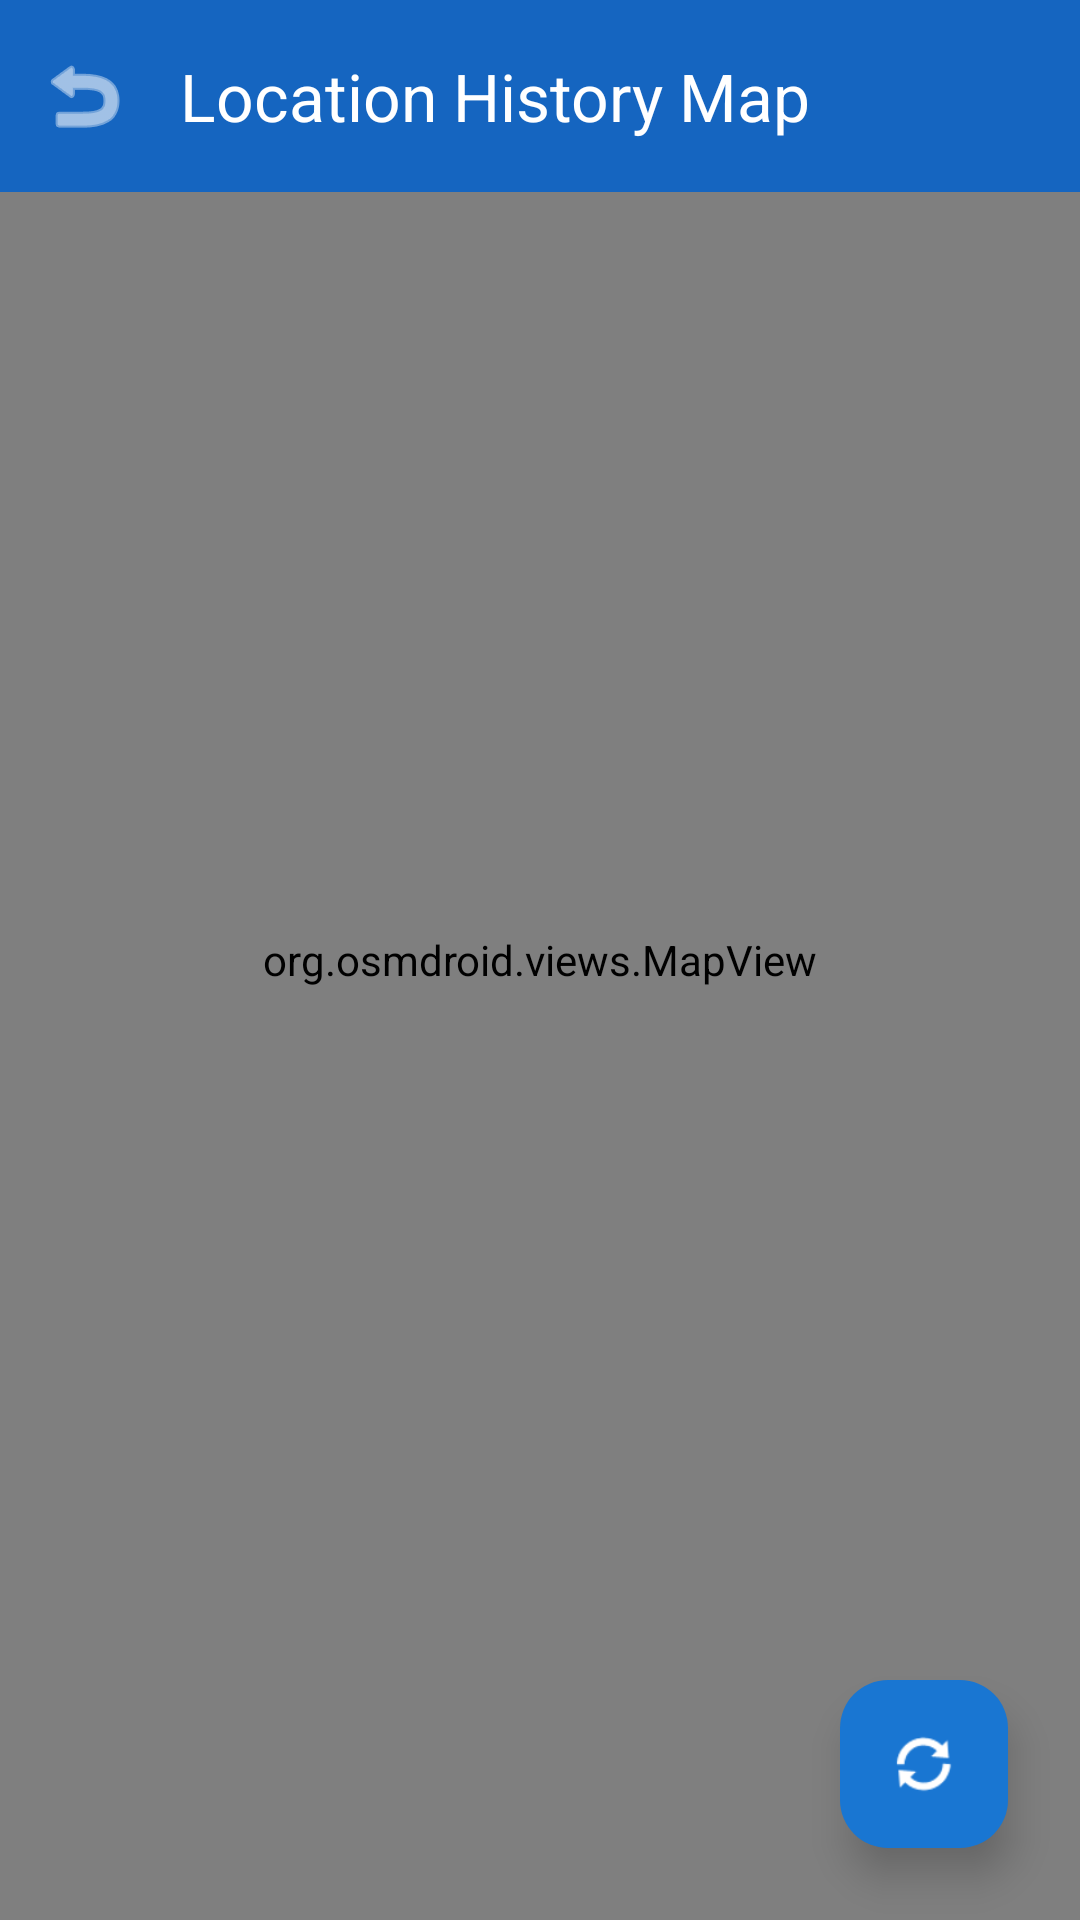

Icon bounding boxes for this 1080w x 1920h phone screenshot, format bbox=[x1, y1, x2, y2]:
Refresh Map Data: bbox=[840, 1680, 1008, 1848]
